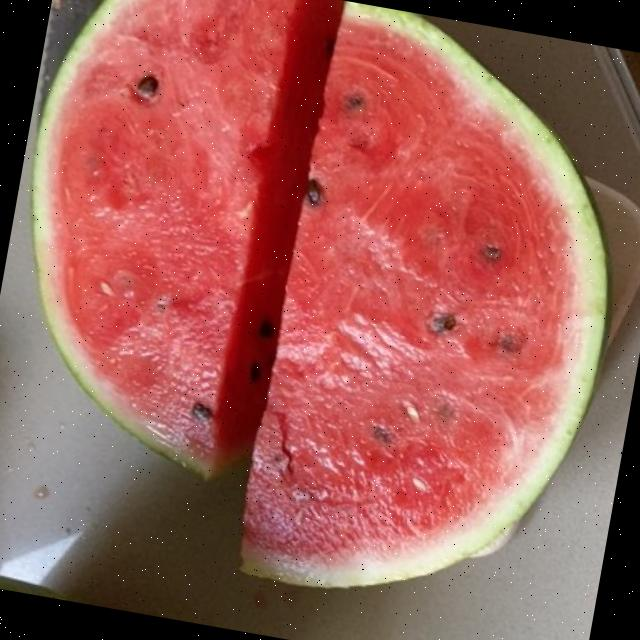watermelon-fresh: (44, 0, 595, 577)
